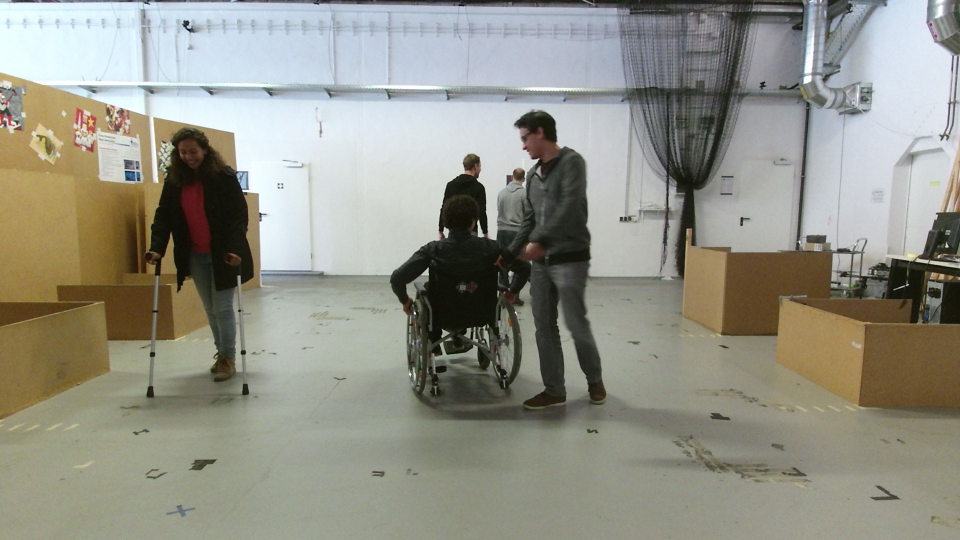crutches: (144, 121, 266, 394)
wheelchair: (388, 185, 543, 421)
